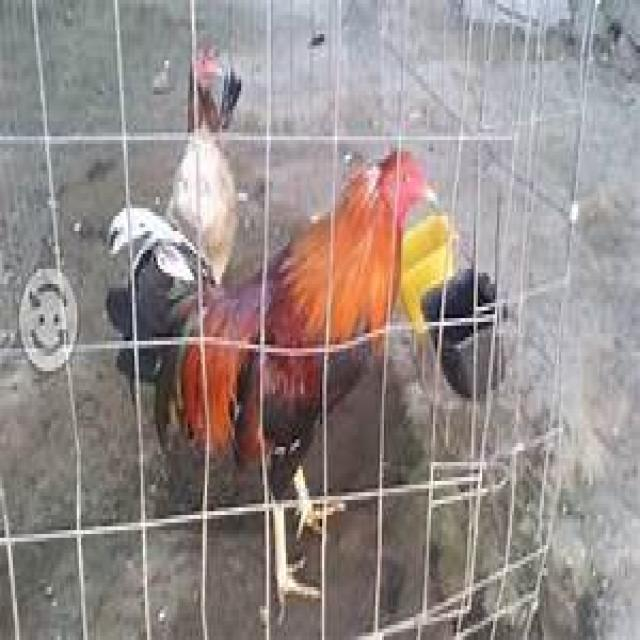hen: (109, 151, 433, 625)
